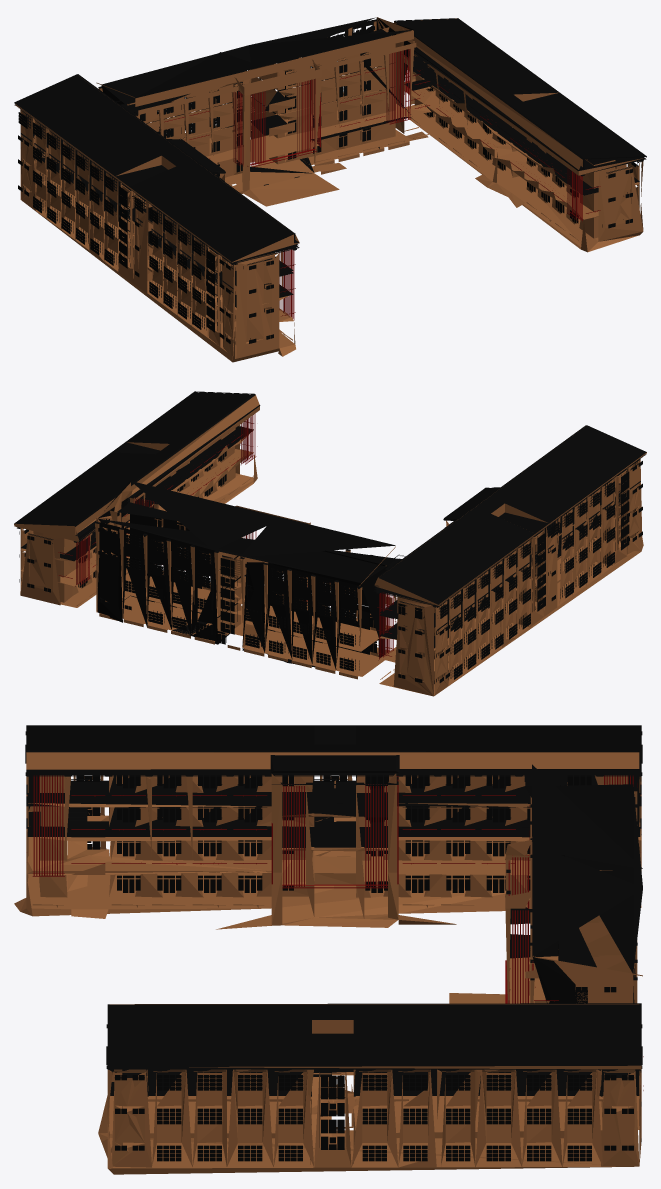
Rendered from admin-block.glb.
The picture shows the model from 3 angles, top to bottom: view 1: azimuth 30°, elevation 25°; view 2: azimuth 150°, elevation 25°; view 3: azimuth 270°, elevation 25°; orthographic projection. The views are drawn at different scales.
Visible parts, largest first — view 1: AdminBlock; view 2: AdminBlock; view 3: AdminBlock.
Part boxes in pixels (x1,y1,x2,y2): AdminBlock: (14,17,646,362); AdminBlock: (14,391,646,696); AdminBlock: (14,725,643,1174).
Size of the model in its own units: 69.84 by 17.45 by 60.95.
